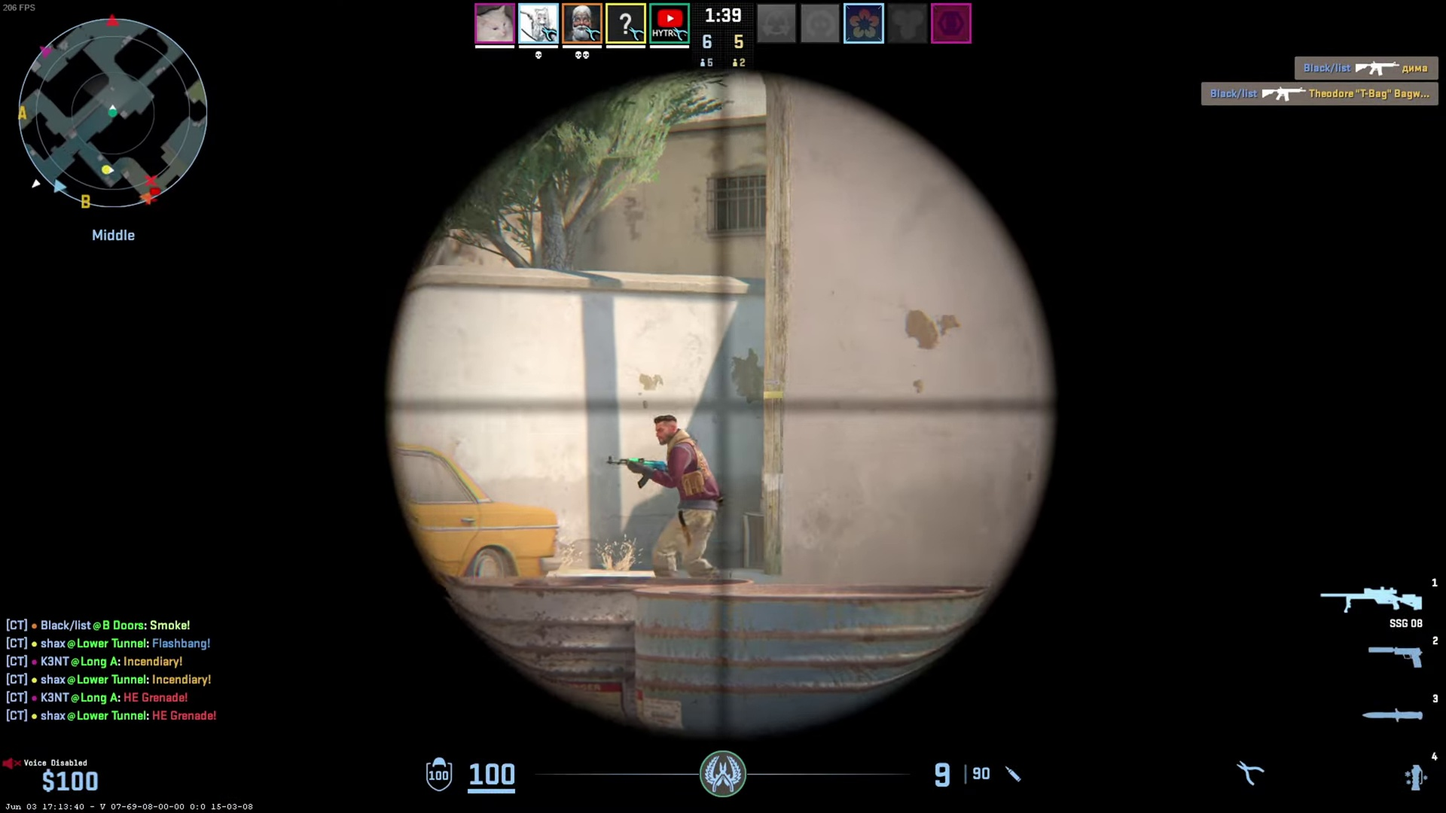Terrorist: (655, 415, 720, 581)
